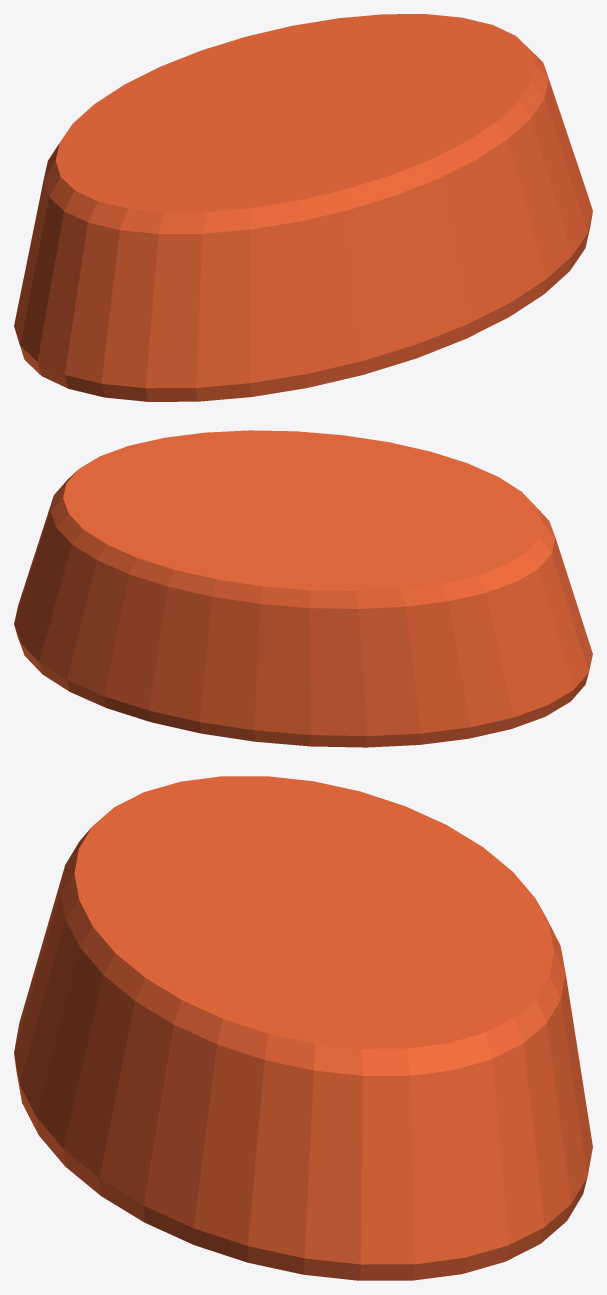
3 views of the same model, one above another, from view 1: azimuth 30°, elevation 25°; view 2: azimuth 150°, elevation 25°; view 3: azimuth 270°, elevation 25° (orthographic). The views are drawn at different scales.
Visible parts, largest first — view 1: Cylinder.003; view 2: Cylinder.003; view 3: Cylinder.003.
Part boxes in pixels (box(x1,y1,x2,y2)): Cylinder.003: box(14, 14, 592, 401); Cylinder.003: box(14, 430, 592, 747); Cylinder.003: box(14, 776, 592, 1280).
Size of the model in its own units: 15.78 by 4.95 by 11.28.
